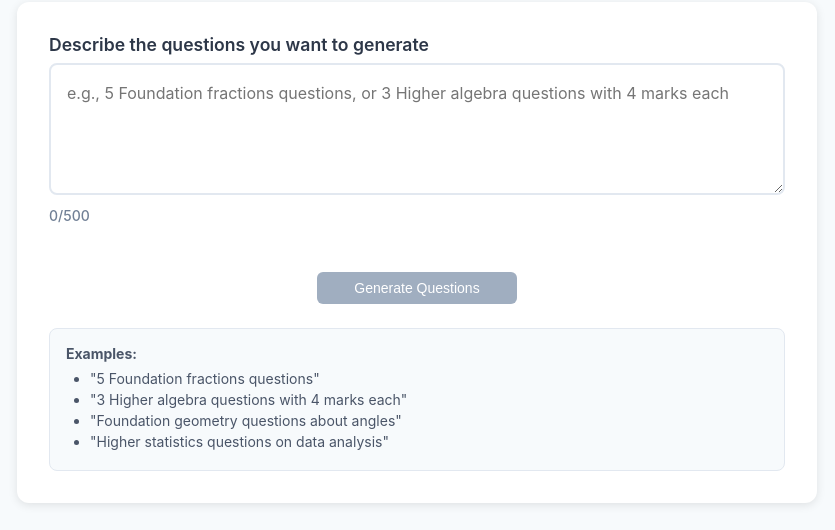
Test case: QueryInput › updates character count as user types
Type "Test query" into the text box labelled "Describe the questions you want to generate" at (417, 129), box [49,63,785,195]
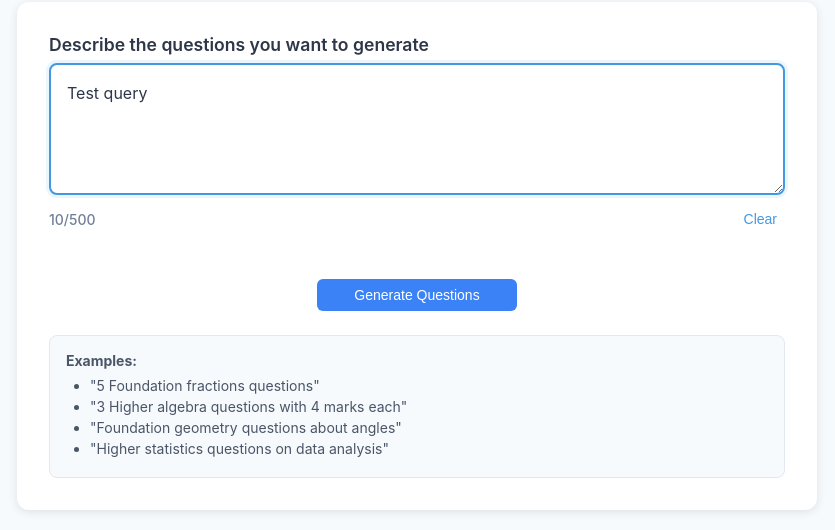
Now the text "10/500" is shown, box [49,210,96,228]
